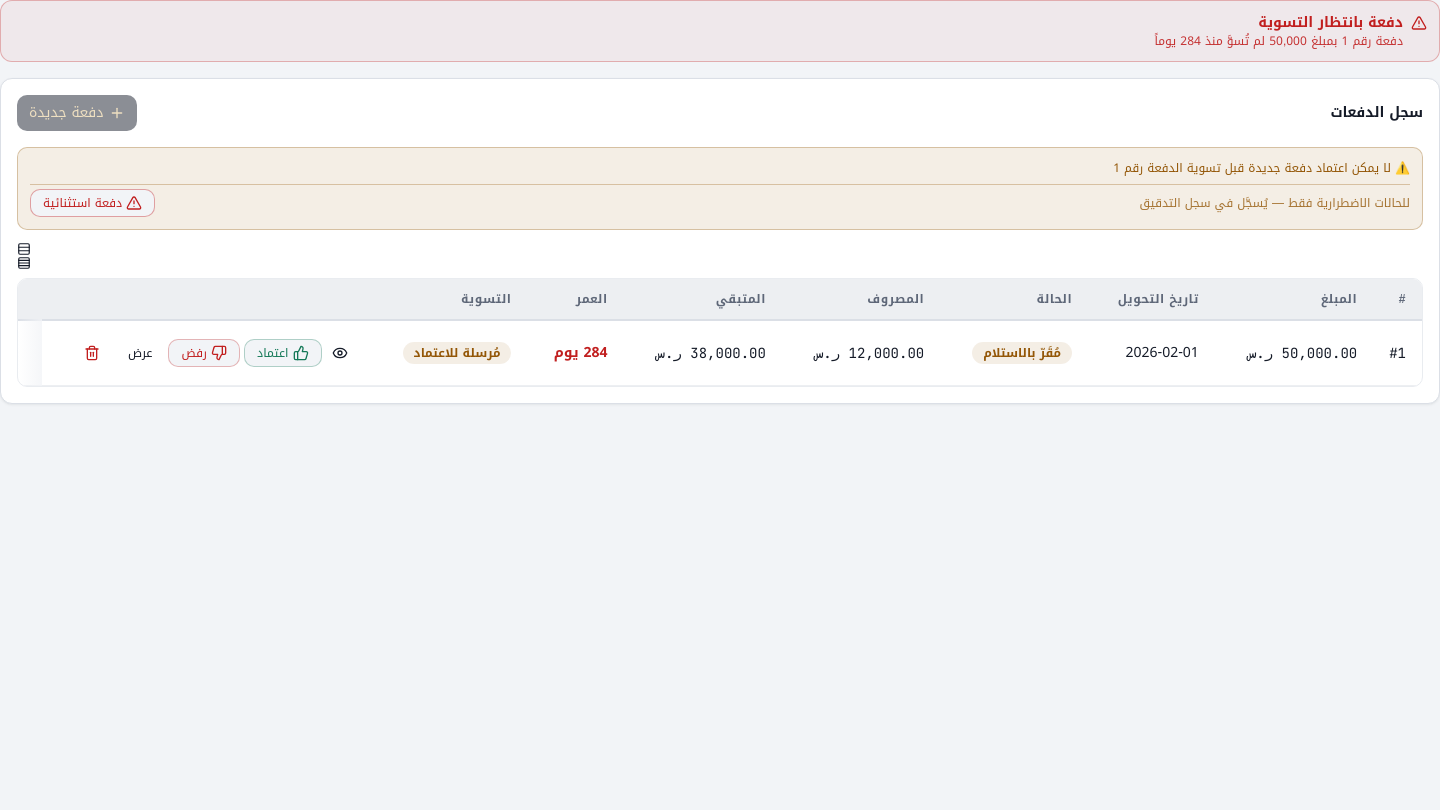
Test case: the settlement dialog › opens read-only on a submitted settlement
The width and height of the screenshot is (1440, 810).
Click the button "عرض" at (140, 353), box top-left (116, 339), bottom-right (164, 367)
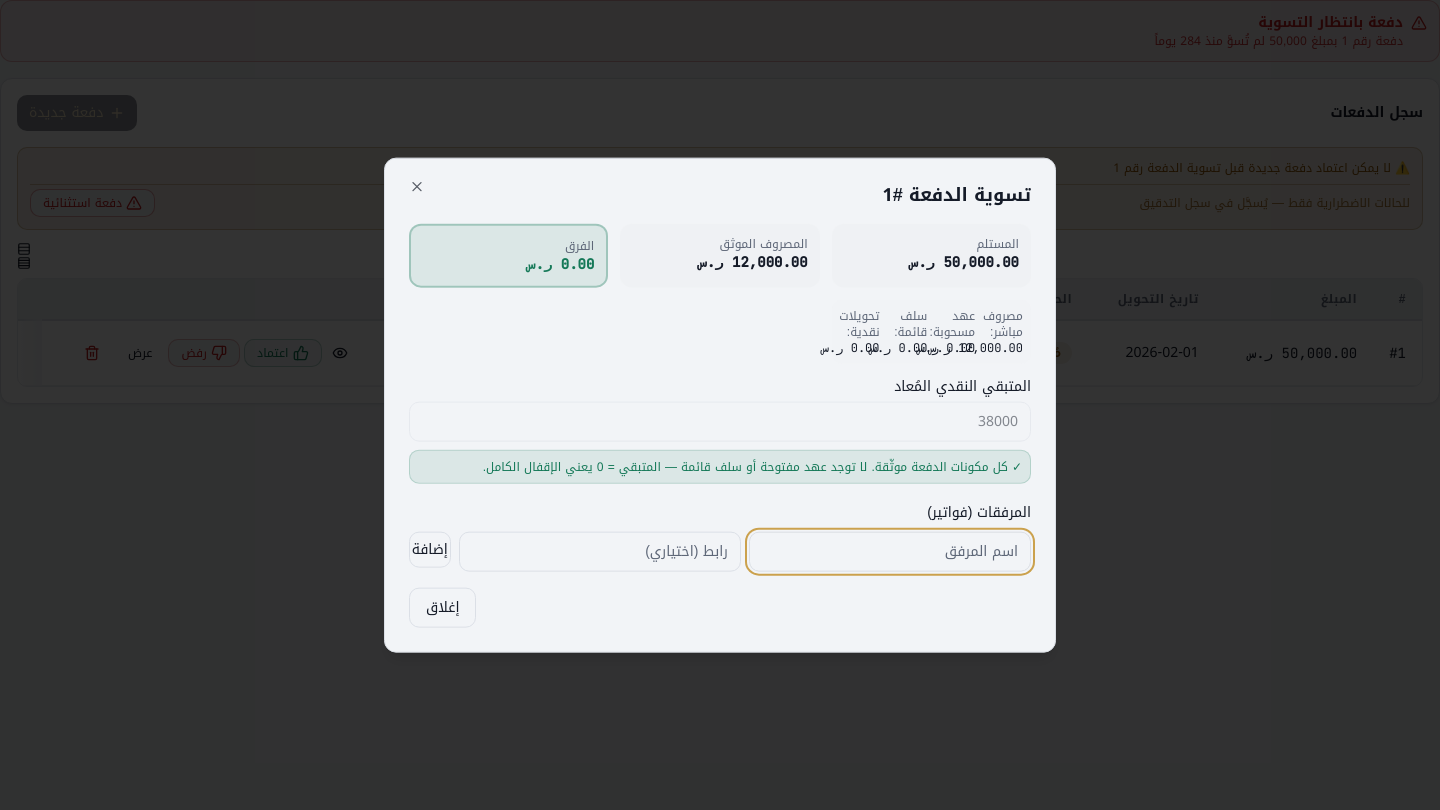
Expected: the number field is disabled, top-left (409, 401), bottom-right (1031, 441)
